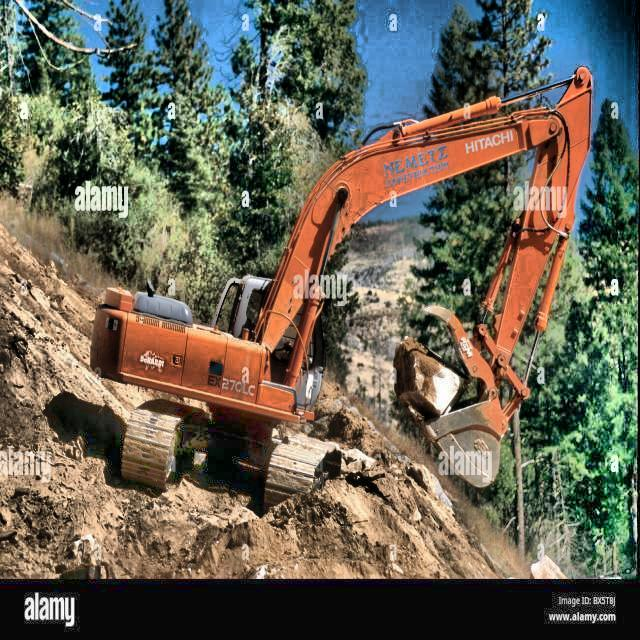excavator: (89, 66, 596, 498)
